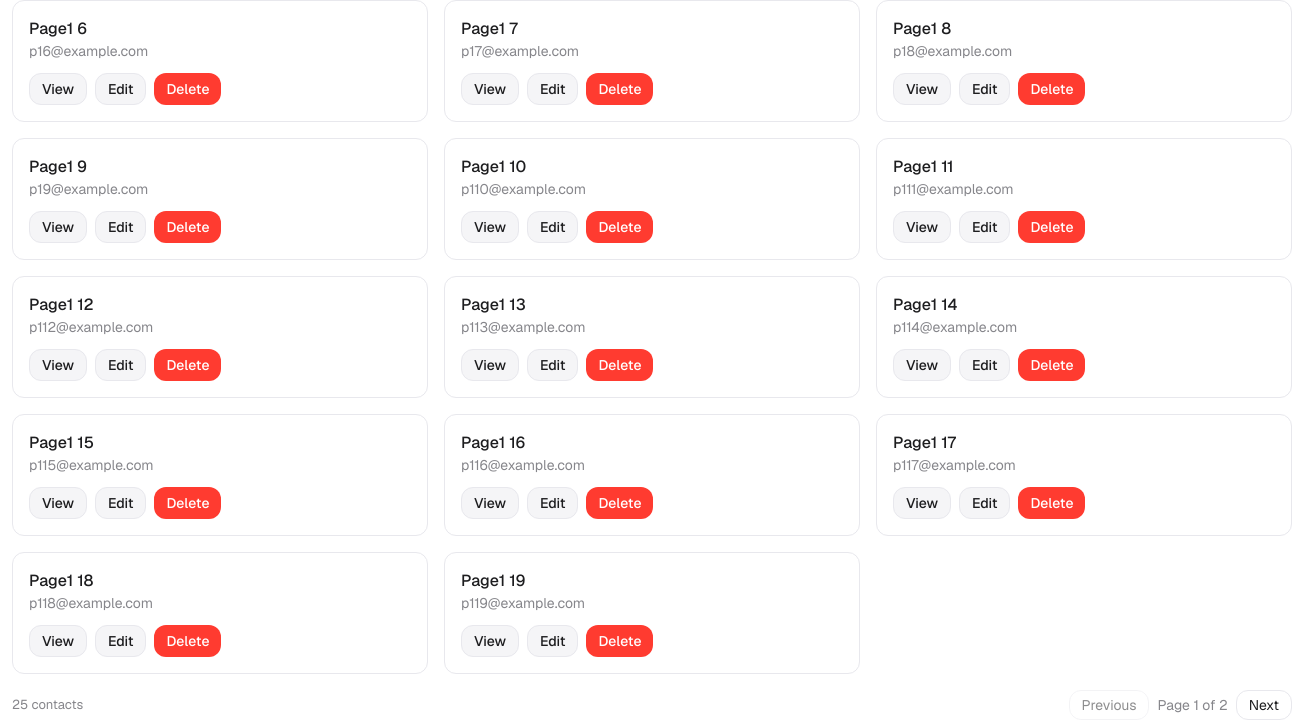
Test: ContactsPage › pagination › fetches the previous page when Previous is clicked
(page scrolled)
What coordinates should you click on to do the following:
click the button "Next"
I would click on:
 (1264, 704)
Its box is [1236,690,1292,719].
(page scrolled)
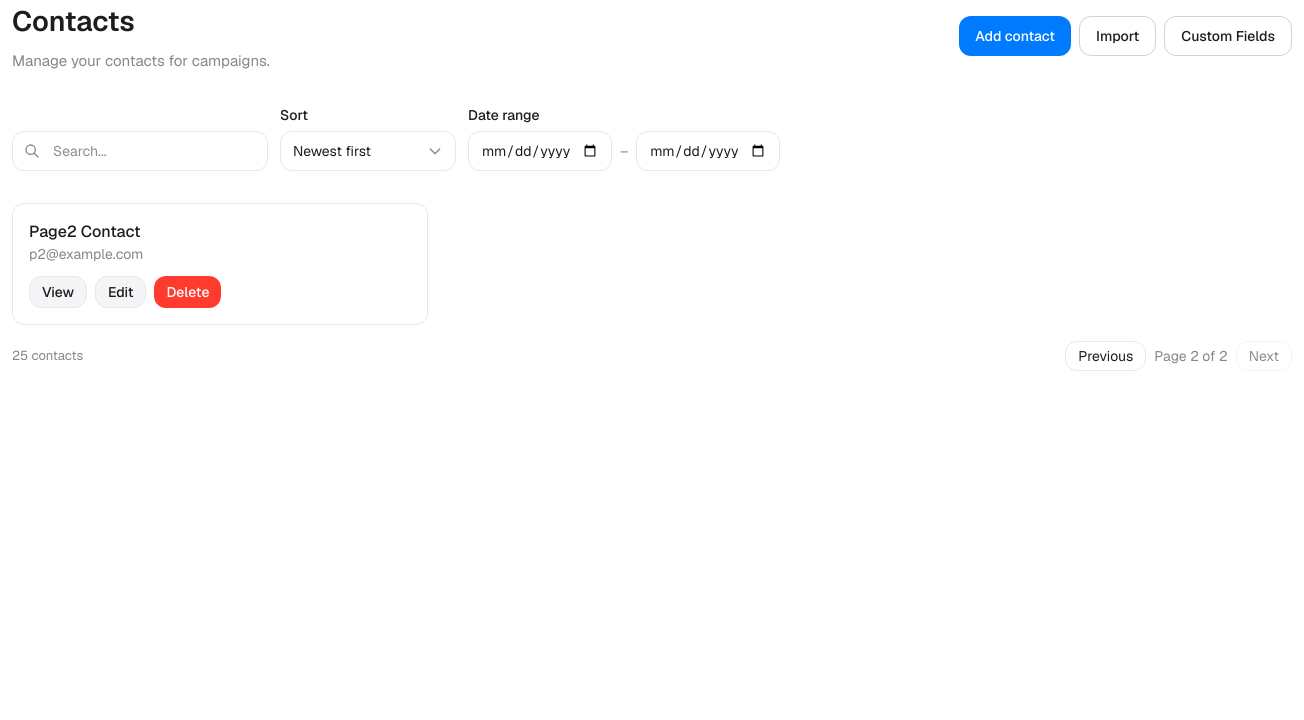
Now the text "Page2 Contact" is shown, box [29,220,141,242]
Now the text "Page 2 of 2" is shown, box [1154,346,1228,366]
What coordinates should you click on to do the following:
click the button "Previous"
I would click on:
 (1106, 356)
Its box is [1065,340,1146,370].
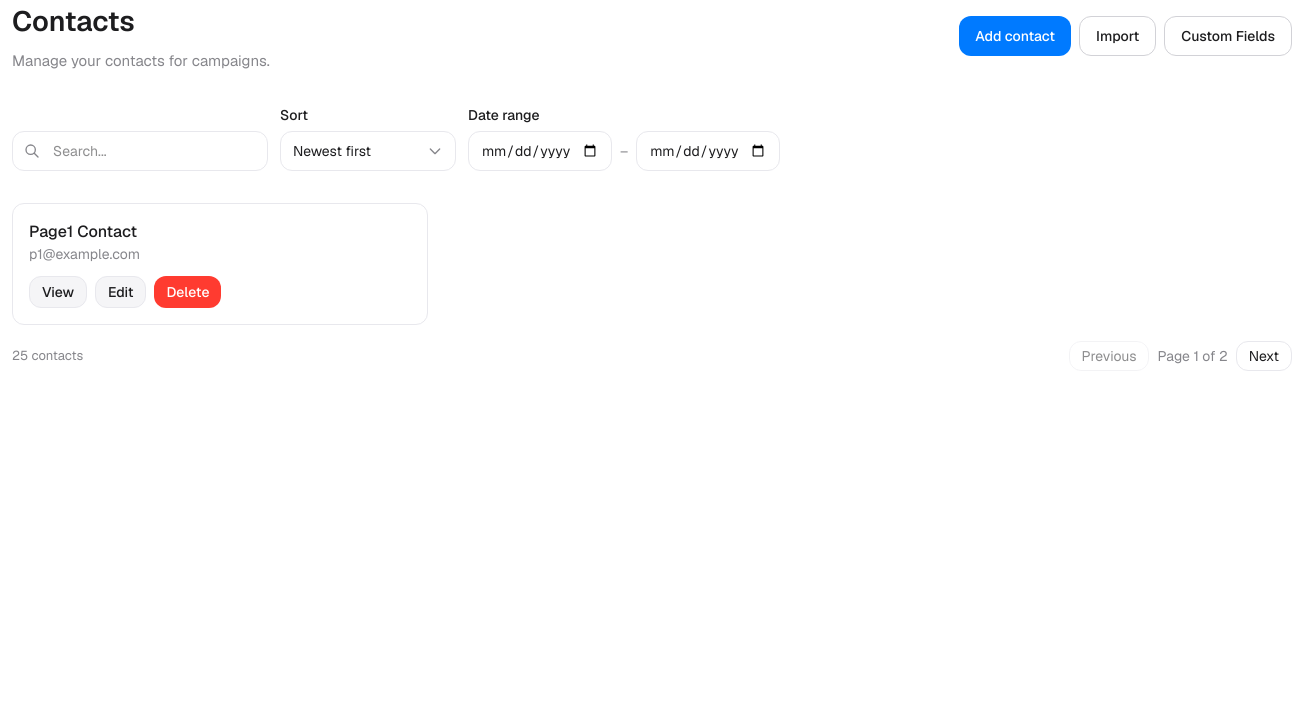
Now the text "Page1 Contact" is shown, box [29,220,137,242]
Now the text "Page 1 of 2" is shown, box [1158,346,1228,366]
